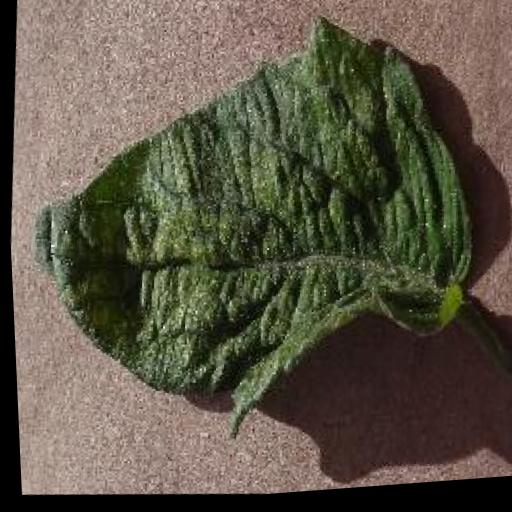Spider Mites: (10, 0, 488, 471)
